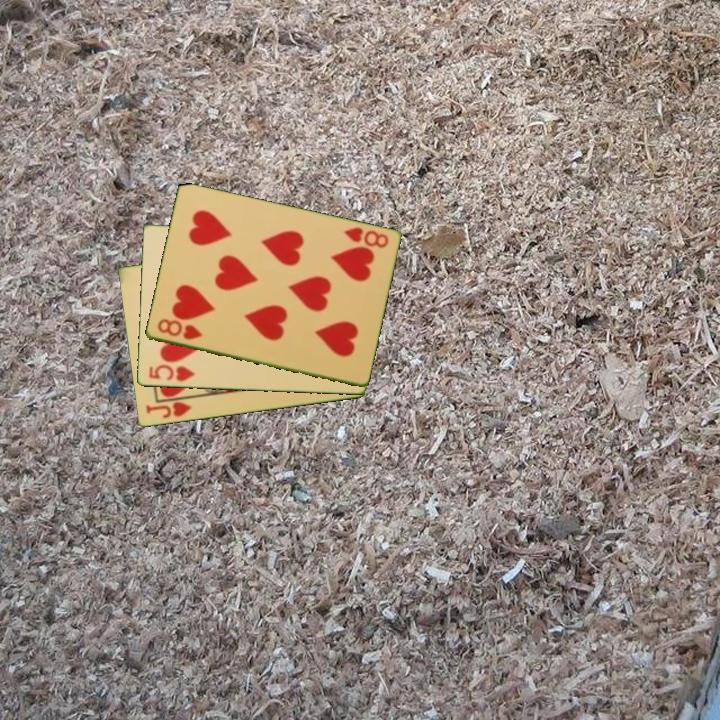5h: (145, 361, 197, 384)
8h: (153, 316, 205, 343), (340, 224, 391, 251)
Jh: (142, 394, 197, 421)
